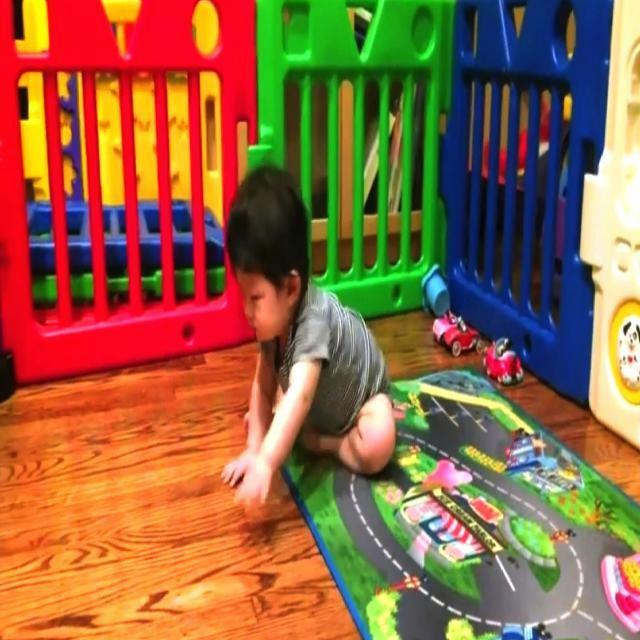child: (220, 165, 396, 513)
